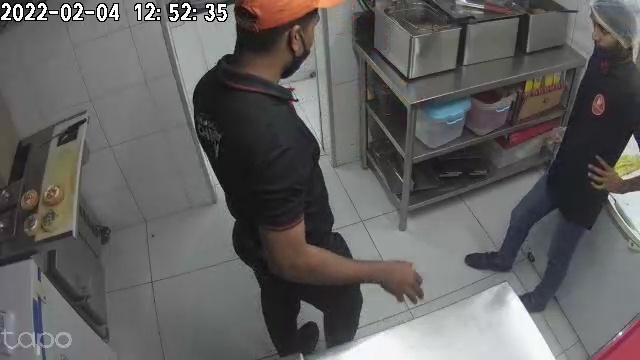no_gloves: (367, 257, 421, 300), (588, 157, 632, 192)
